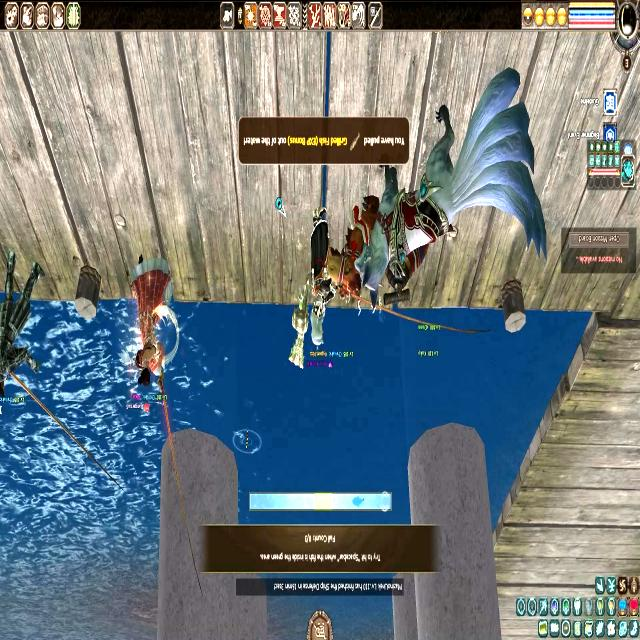fishes: (352, 495, 365, 509)
